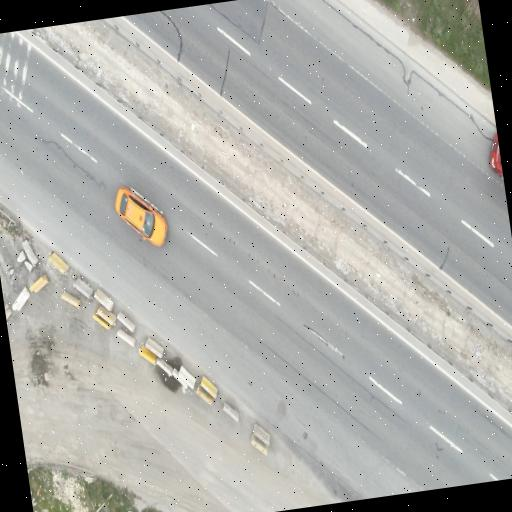car: (115, 187, 166, 245)
truck: (489, 132, 502, 177)
